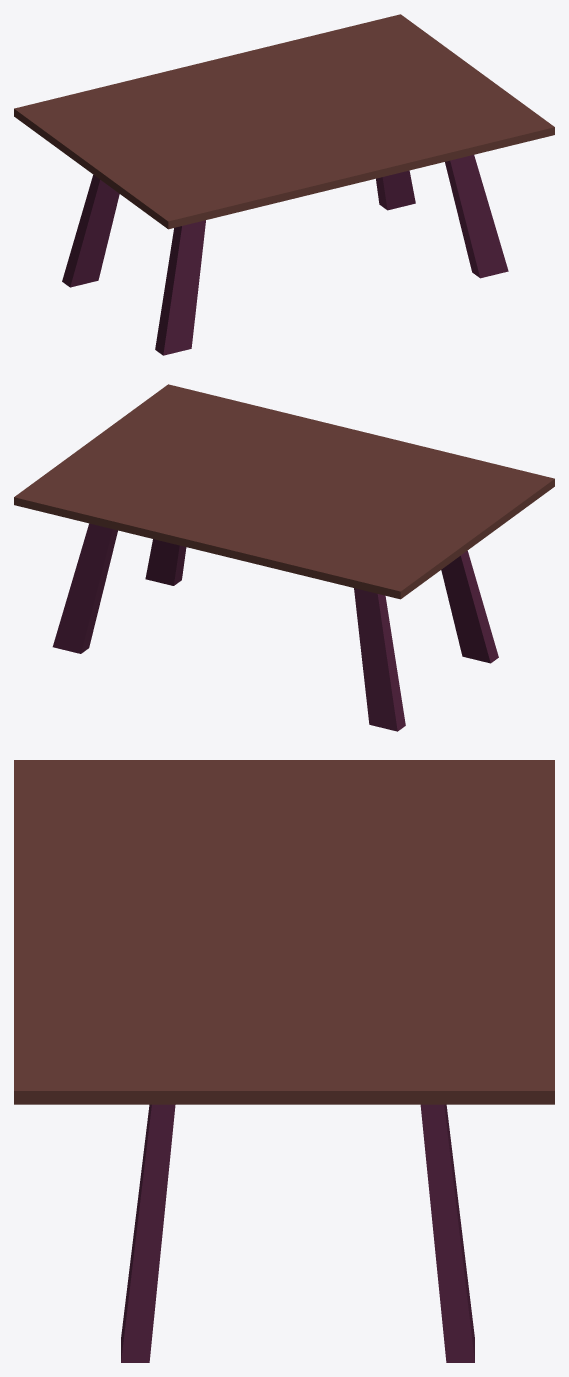
Rendered from stol.fbx.
3 renders of one model, top to bottom at view 1: azimuth 30°, elevation 25°; view 2: azimuth 150°, elevation 25°; view 3: azimuth 270°, elevation 25°, orthographic. The views are drawn at different scales.
Visible parts, largest first — view 1: Cube; view 2: Cube; view 3: Cube.
Boxes of the visible parts, box(x1,y1,x2,y2) form: Cube: box(14, 14, 554, 355); Cube: box(14, 384, 554, 731); Cube: box(14, 760, 554, 1362).
Bounding box in the file's own units: 76.34 × 30.71 × 52.74.
